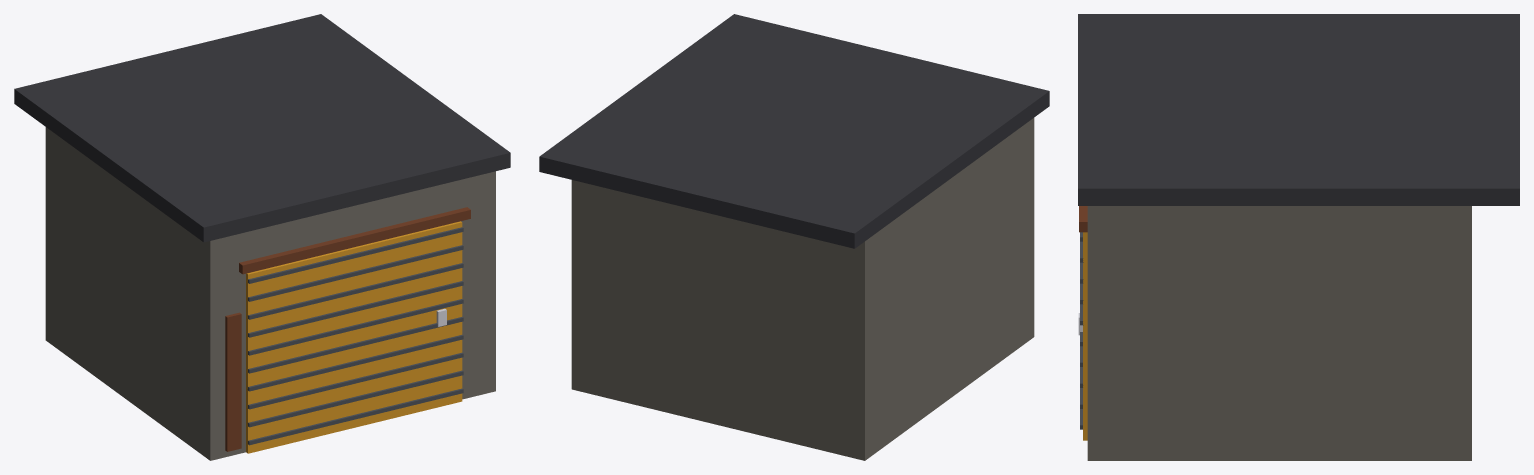
Rendered from garage_13.glb.
3 views of the same model, side by side, from view 1: azimuth 30°, elevation 25°; view 2: azimuth 150°, elevation 25°; view 3: azimuth 270°, elevation 25° (orthographic). The views are drawn at different scales.
Visible parts, largest first — view 1: garage_13; view 2: garage_13; view 3: garage_13.
Boxes of the visible parts, bbox=[...] form: garage_13: bbox=[14, 14, 510, 460]; garage_13: bbox=[539, 14, 1049, 460]; garage_13: bbox=[1078, 14, 1519, 460].
Size of the model in its own units: 4.3 by 3.2 by 4.6.
